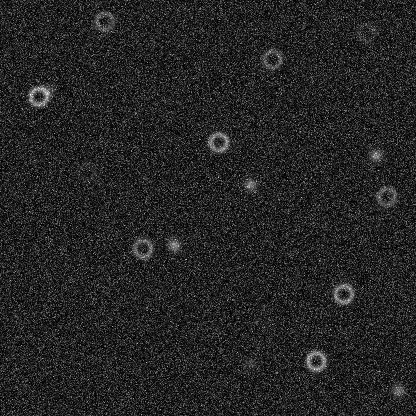Ring: (130, 236, 154, 260), (206, 130, 230, 154), (303, 348, 327, 372), (92, 9, 116, 33), (26, 84, 50, 108), (74, 159, 98, 183), (374, 184, 398, 208), (331, 281, 355, 305), (354, 20, 378, 44), (260, 47, 284, 71)
Spot: (40, 82, 56, 98), (389, 382, 405, 398), (165, 236, 181, 252), (241, 355, 257, 371), (242, 176, 258, 192), (367, 147, 383, 163)
